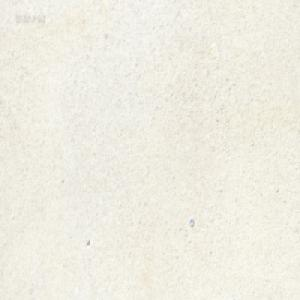Washer: (189, 218, 194, 227)
